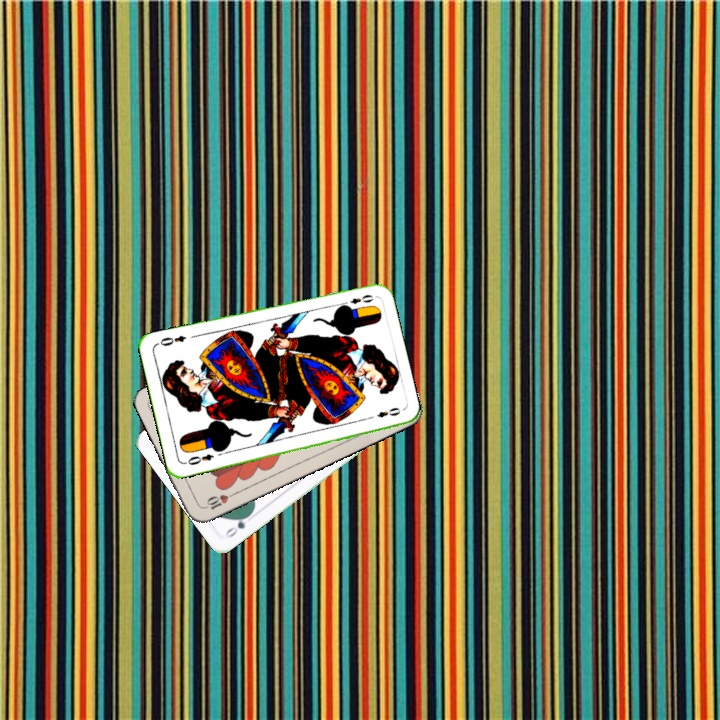EO: (337, 290, 376, 310), (181, 450, 216, 468)
GO: (221, 509, 254, 540)
H10: (199, 489, 238, 512)
